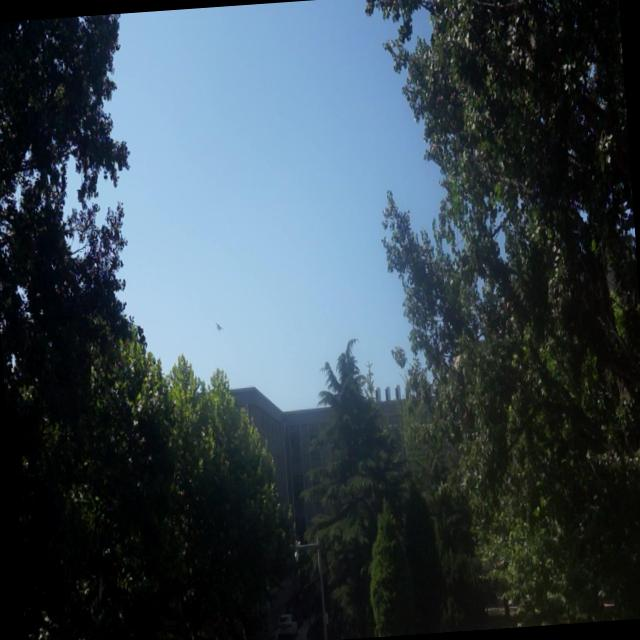drone: (213, 318, 225, 336)
